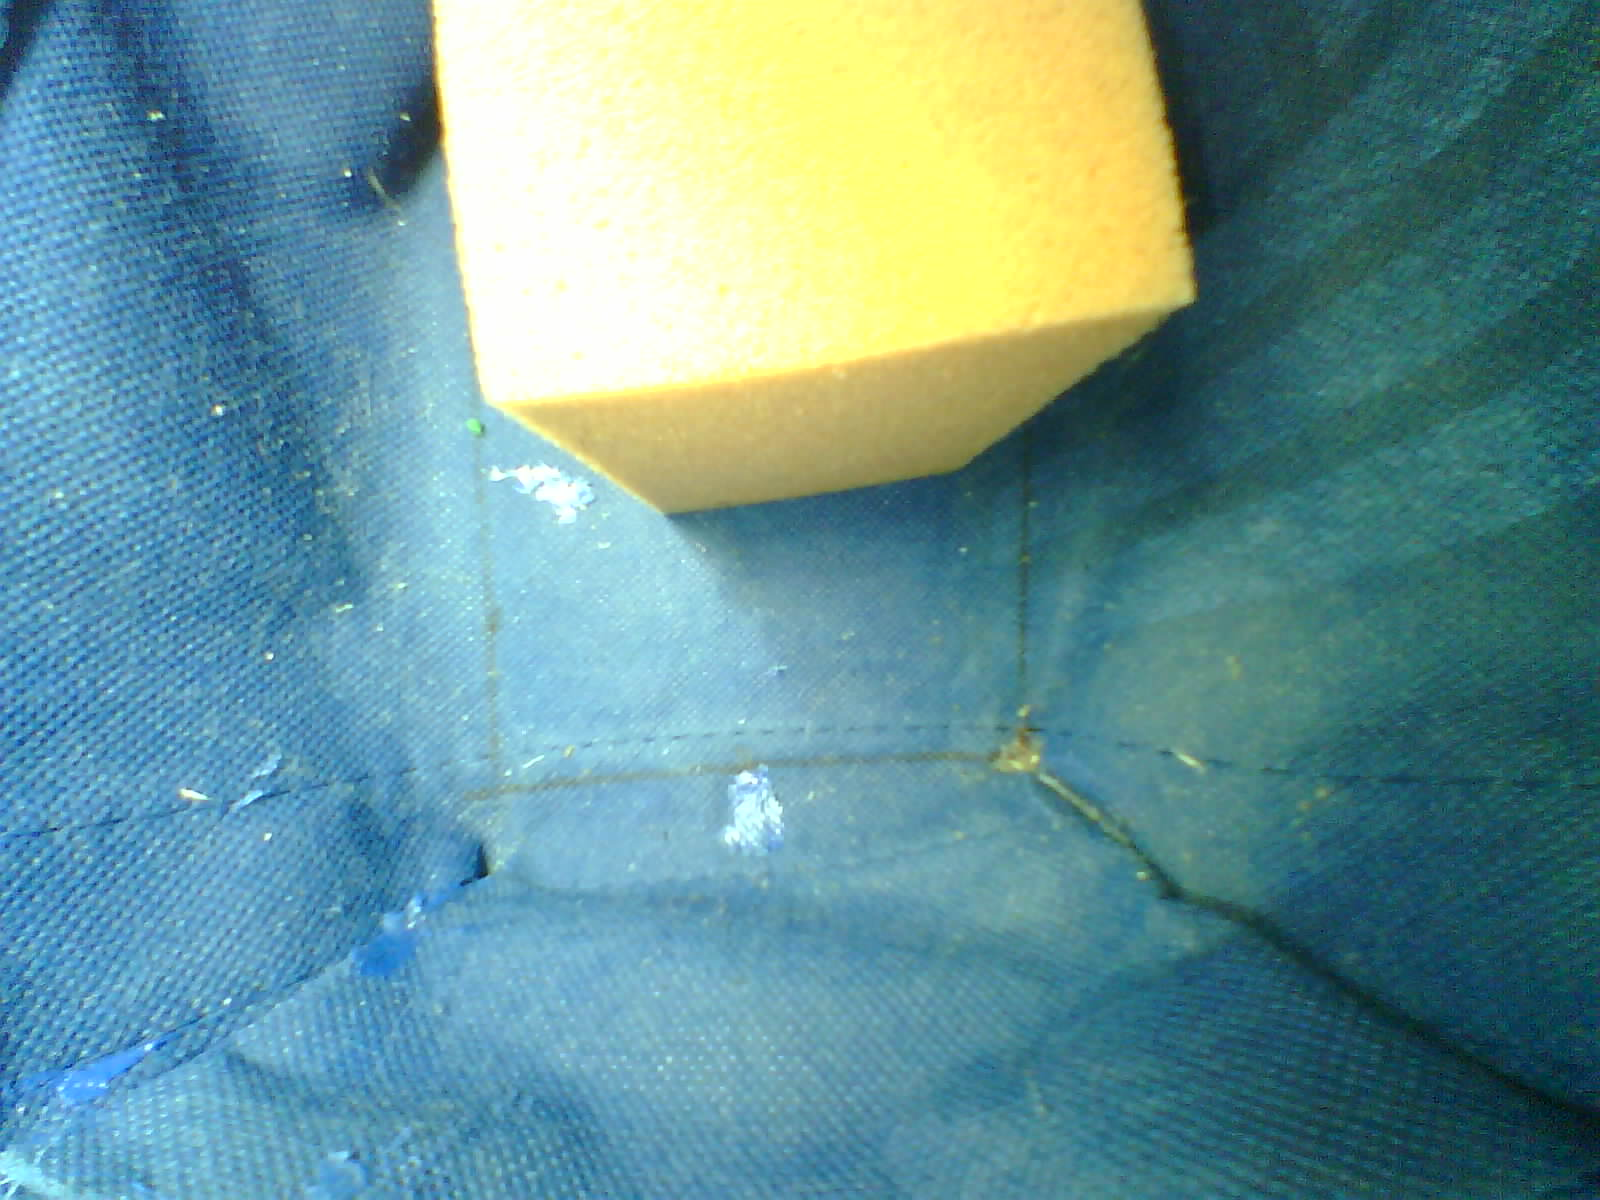cube-soft: (404, 0, 1212, 546)
